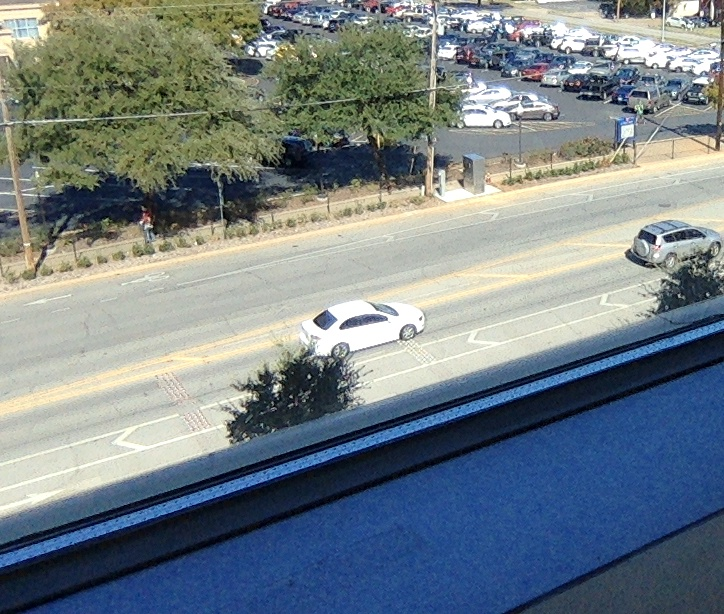car: (300, 300, 424, 355)
